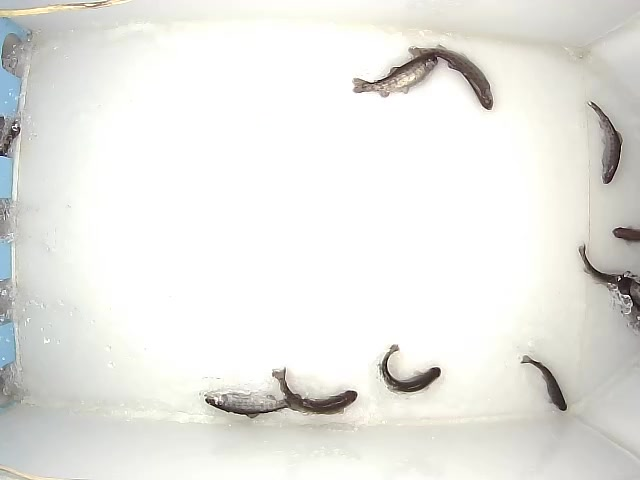fish: (405, 41, 494, 111), (270, 365, 359, 415), (201, 386, 310, 421), (350, 55, 438, 98), (584, 98, 625, 186), (375, 343, 443, 394), (521, 355, 568, 413)
